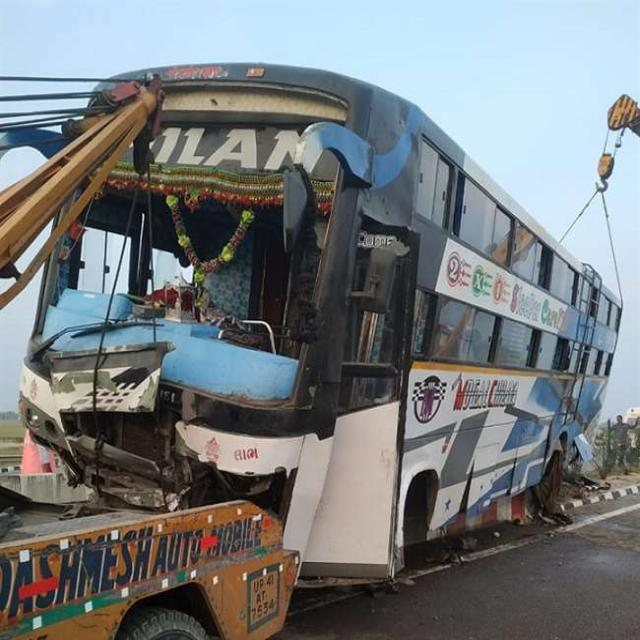accident: (21, 65, 620, 575)
